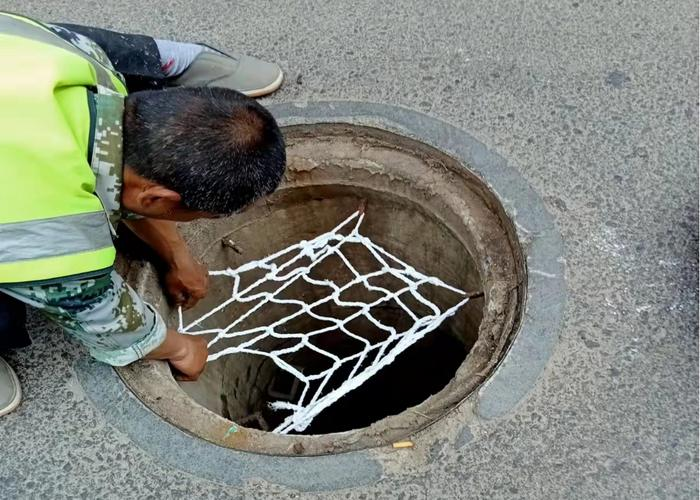lose: (85, 104, 547, 467)
